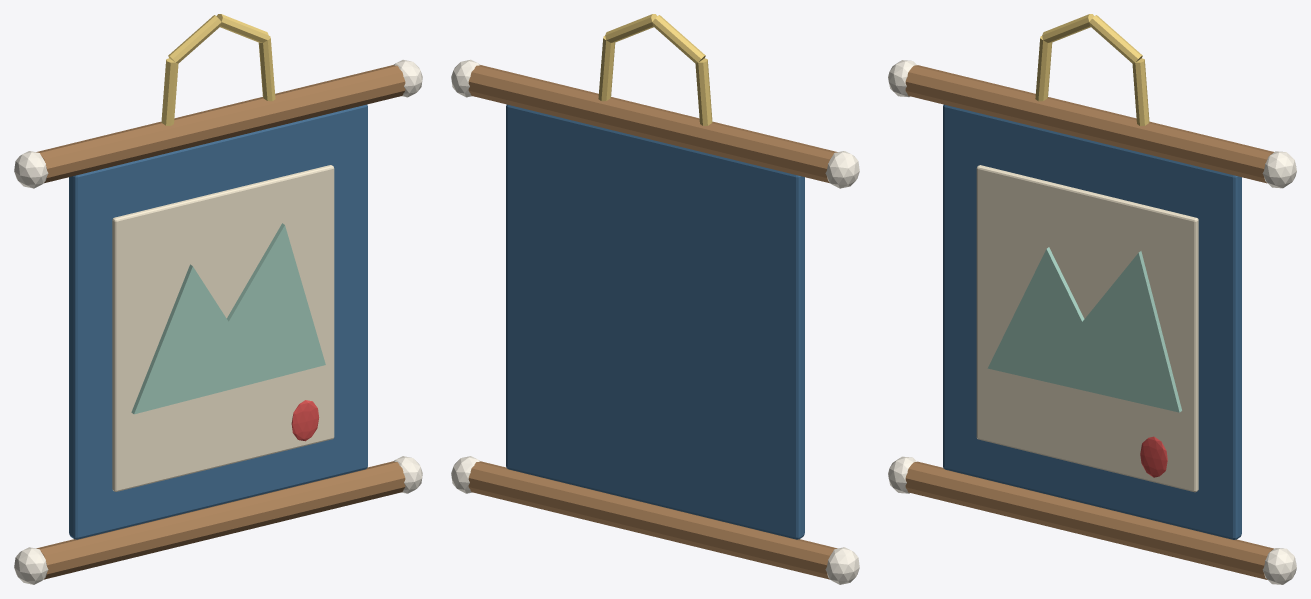
The model's file is writing_kakejiku.glb.
3 renders of one model, left to right at view 1: azimuth 30°, elevation 25°; view 2: azimuth 150°, elevation 25°; view 3: azimuth 330°, elevation 25°, orthographic.
Parts seen in each view (by area): view 1: Kakejiku indigo silk mounting, Central washi art scroll, Detailed mountain silhouette, Scroll mounting roller.001, Scroll mounting roller, Ivory roller end, Ivory roller end.002, Red artist stamp, Hanging cord_00, Hanging cord_01, Hanging cord_03, Hanging cord_02 (+2 smaller); view 2: Kakejiku indigo silk mounting, Scroll mounting roller.001, Scroll mounting roller, Ivory roller end, Ivory roller end.002, Hanging cord_00, Hanging cord_01, Hanging cord_03, Hanging cord_02, Ivory roller end.001, Ivory roller end.003; view 3: Kakejiku indigo silk mounting, Central washi art scroll, Detailed mountain silhouette, Scroll mounting roller.001, Scroll mounting roller, Ivory roller end.001, Ivory roller end.003, Red artist stamp, Hanging cord_03, Hanging cord_02, Hanging cord_00, Hanging cord_01 (+2 smaller).
Part boxes in pixels (x1,y1,x2,y2): Kakejiku indigo silk mounting: [69, 104, 367, 539]; Central washi art scroll: [112, 165, 334, 491]; Detailed mountain silhouette: [131, 223, 325, 414]; Scroll mounting roller.001: [36, 65, 405, 183]; Scroll mounting roller: [36, 461, 405, 579]; Ivory roller end: [14, 547, 48, 584]; Ivory roller end.002: [14, 151, 48, 188]; Red artist stamp: [291, 400, 319, 441]; Hanging cord_00: [161, 58, 178, 125]; Hanging cord_01: [168, 15, 221, 63]; Hanging cord_03: [258, 36, 275, 101]; Hanging cord_02: [216, 14, 268, 42]; Kakejiku indigo silk mounting: [506, 104, 804, 539]; Scroll mounting roller.001: [468, 65, 837, 183]; Scroll mounting roller: [468, 461, 837, 579]; Ivory roller end: [825, 547, 859, 584]; Ivory roller end.002: [825, 151, 859, 188]; Hanging cord_00: [695, 58, 712, 125]; Hanging cord_01: [652, 15, 705, 63]; Hanging cord_03: [598, 36, 615, 101]; Hanging cord_02: [605, 14, 657, 42]; Ivory roller end.001: [451, 456, 480, 493]; Ivory roller end.003: [451, 59, 480, 97]; Kakejiku indigo silk mounting: [943, 104, 1241, 539]; Central washi art scroll: [976, 165, 1198, 492]; Detailed mountain silhouette: [987, 247, 1181, 412]; Scroll mounting roller.001: [905, 65, 1273, 183]; Scroll mounting roller: [905, 461, 1273, 579]; Ivory roller end.001: [1262, 548, 1296, 584]; Ivory roller end.003: [1262, 151, 1296, 188]; Red artist stamp: [1140, 436, 1167, 477]; Hanging cord_03: [1132, 58, 1149, 126]; Hanging cord_02: [1089, 15, 1142, 63]; Hanging cord_00: [1035, 36, 1052, 101]; Hanging cord_01: [1042, 14, 1094, 42].
Size of the model in its own units: 1.57 by 1.95 by 0.1597.
